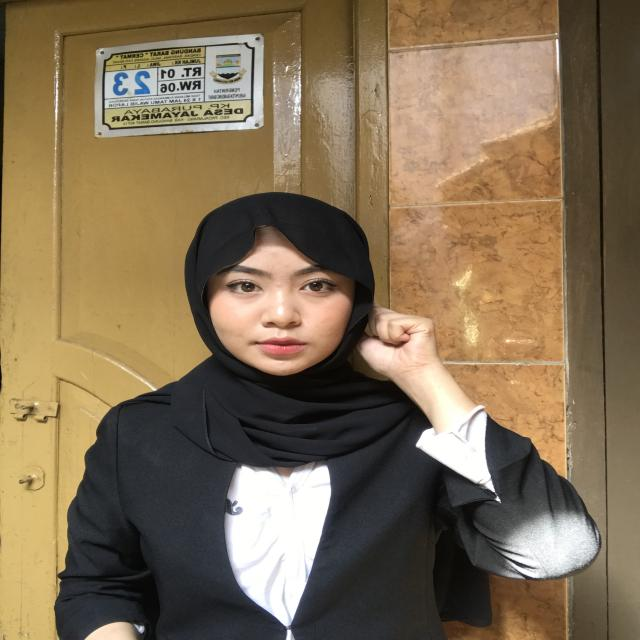ibu: (356, 286, 496, 437)
